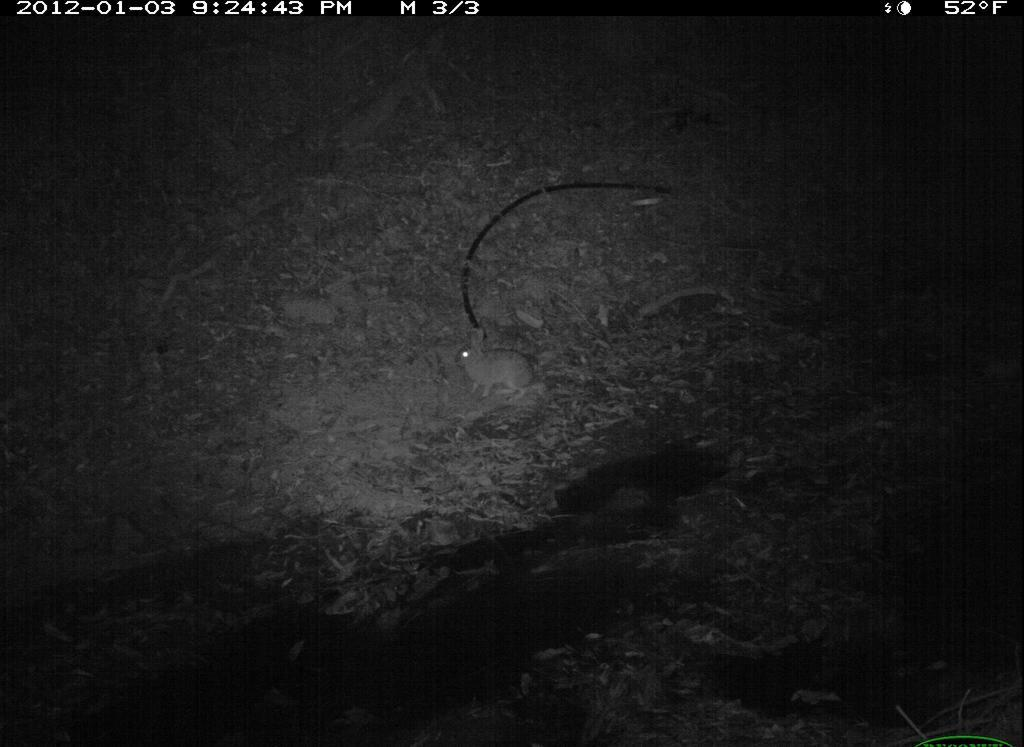rabbit: (450, 323, 545, 408)
